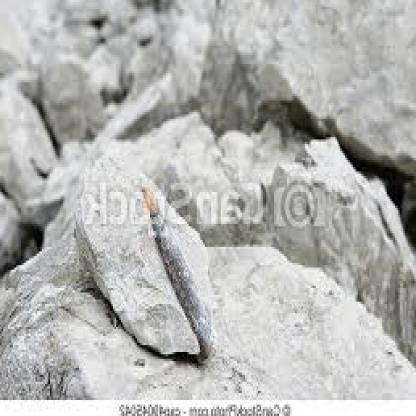Sedimentary_Chalk: (181, 277, 314, 384)
